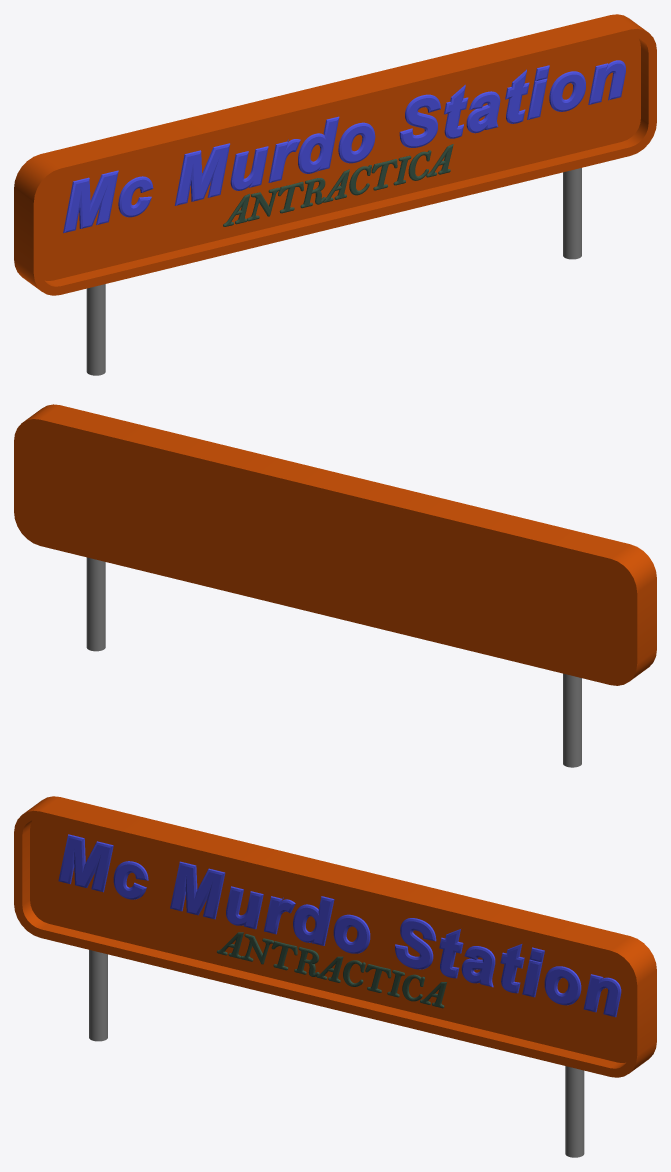
File: Sign.fbx
The picture shows the model from 3 angles, top to bottom: view 1: azimuth 30°, elevation 25°; view 2: azimuth 150°, elevation 25°; view 3: azimuth 330°, elevation 25°; orthographic projection.
Parts seen in each view (by area): view 1: Cube.165; view 2: Cube.165; view 3: Cube.165.
Boxes of the visible parts, x1,y1,x2,y2 form: Cube.165: [14, 14, 656, 375]; Cube.165: [14, 404, 656, 767]; Cube.165: [14, 796, 656, 1157].
Size of the model in its own units: 751 by 256 by 41.4.
